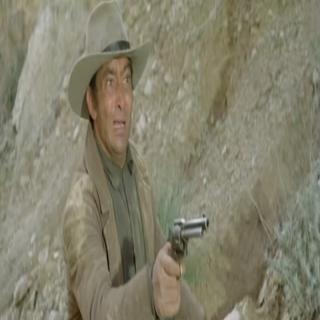gun: (163, 202, 211, 288)
